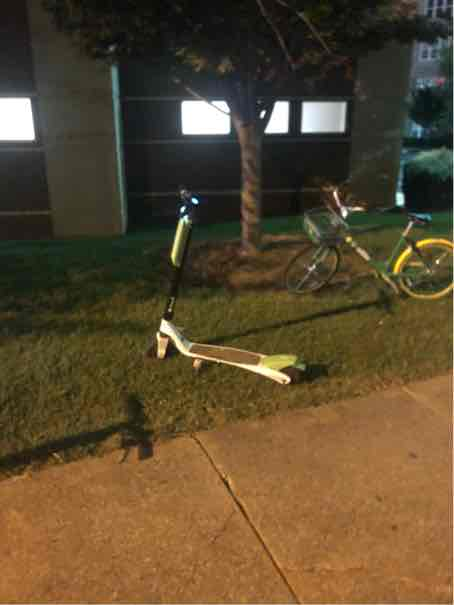scooter: (128, 184, 327, 403)
